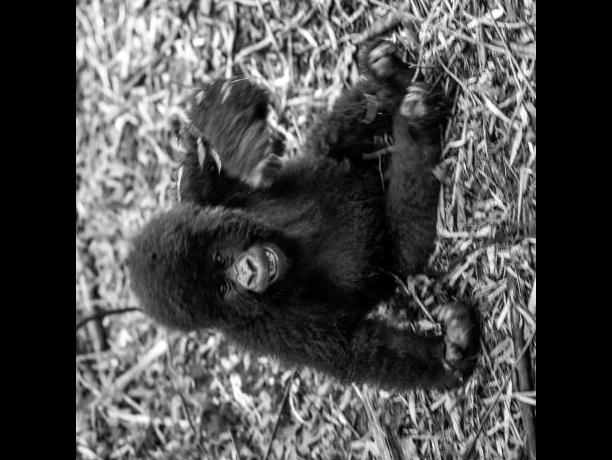goriile_montagne: (99, 24, 477, 417)
